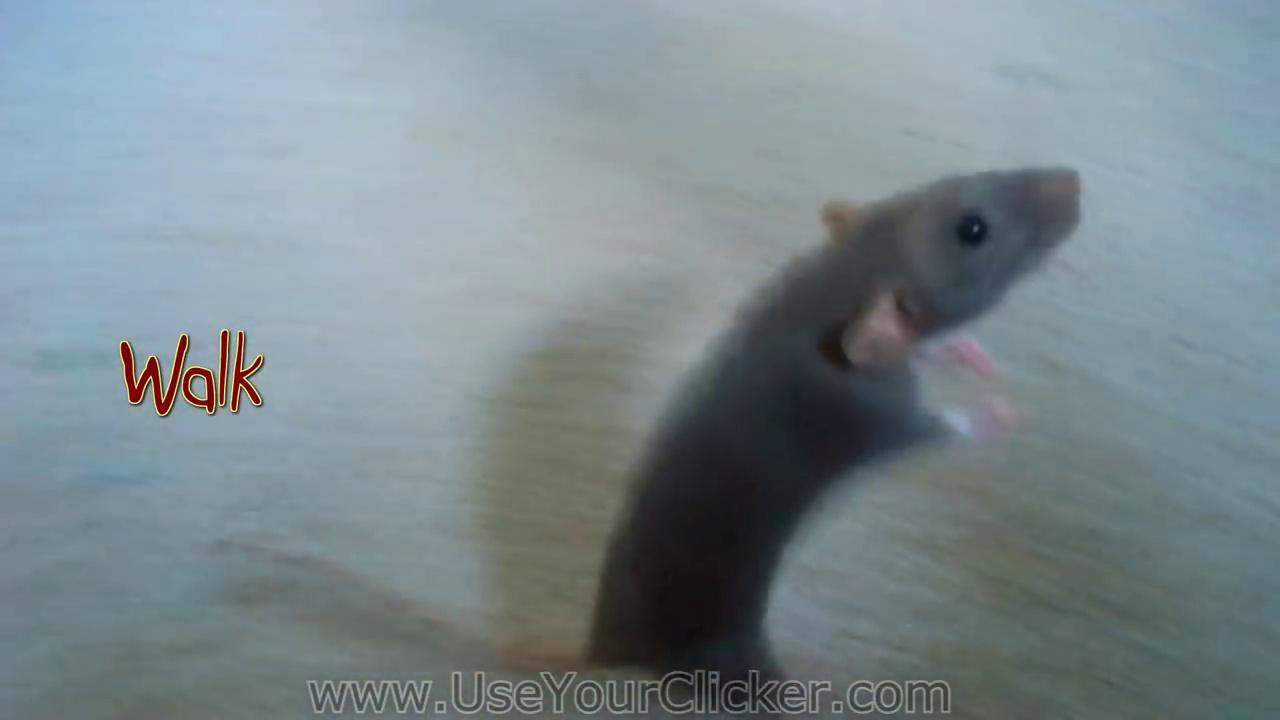rat: (214, 163, 1081, 720)
